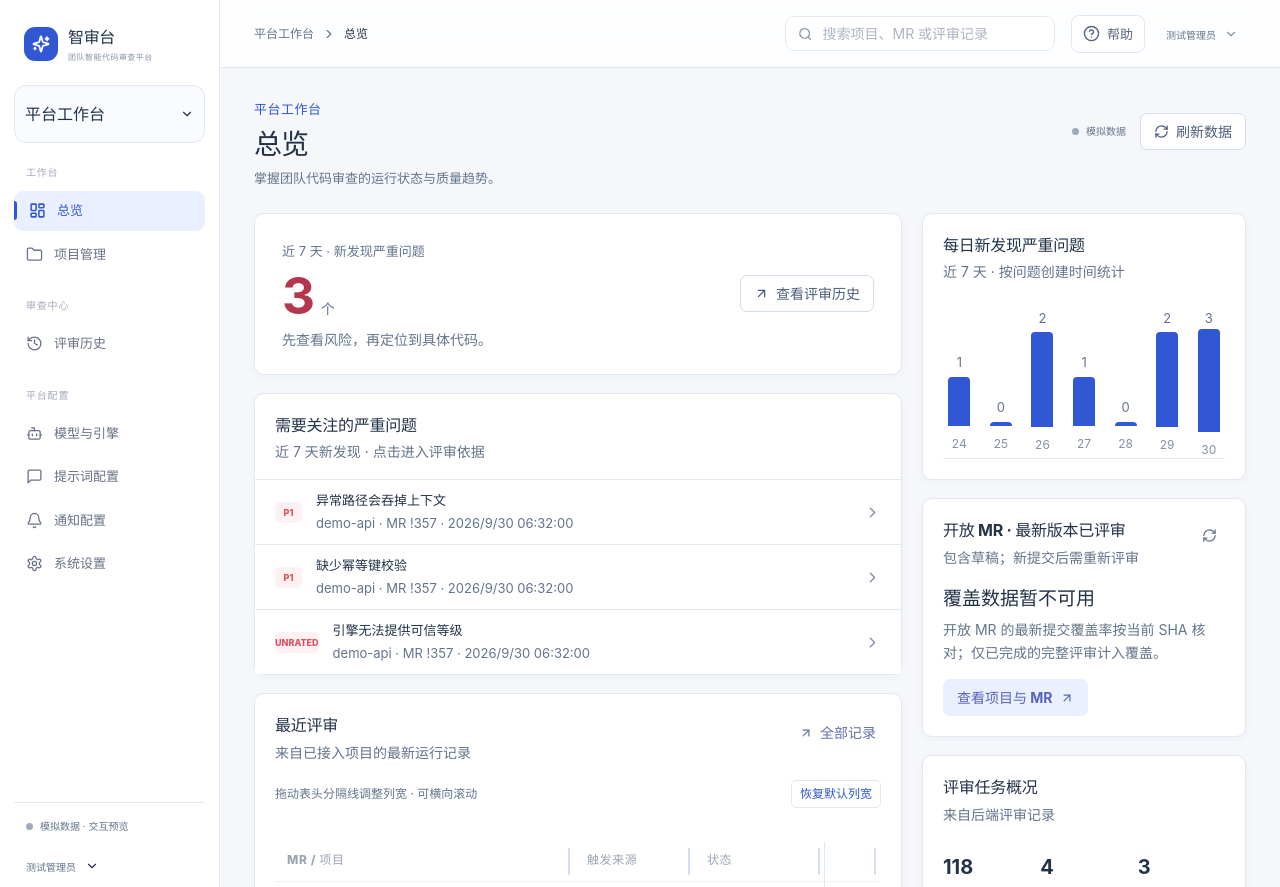
Test: 智审台 shell › shows the GitLab webhook endpoint on project management
Click the button "项目管理" at {"x": 110, "y": 254}, box x1=14 y1=234 x2=205 y2=274
(page scrolled)
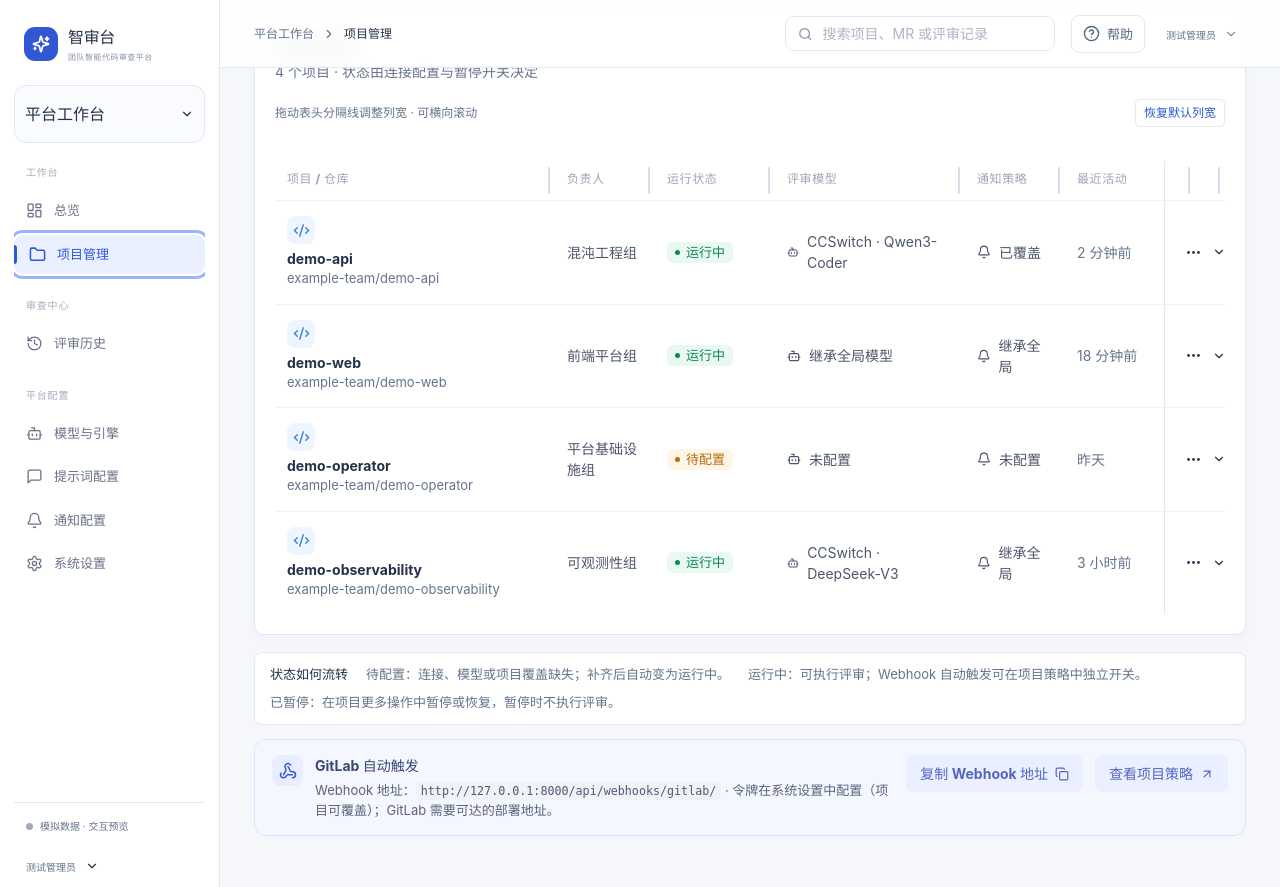
expect the text "http://127.0.0.1:8000/api/webhooks/gitlab/" is shown: met, box x1=416 y1=782 x2=721 y2=800
